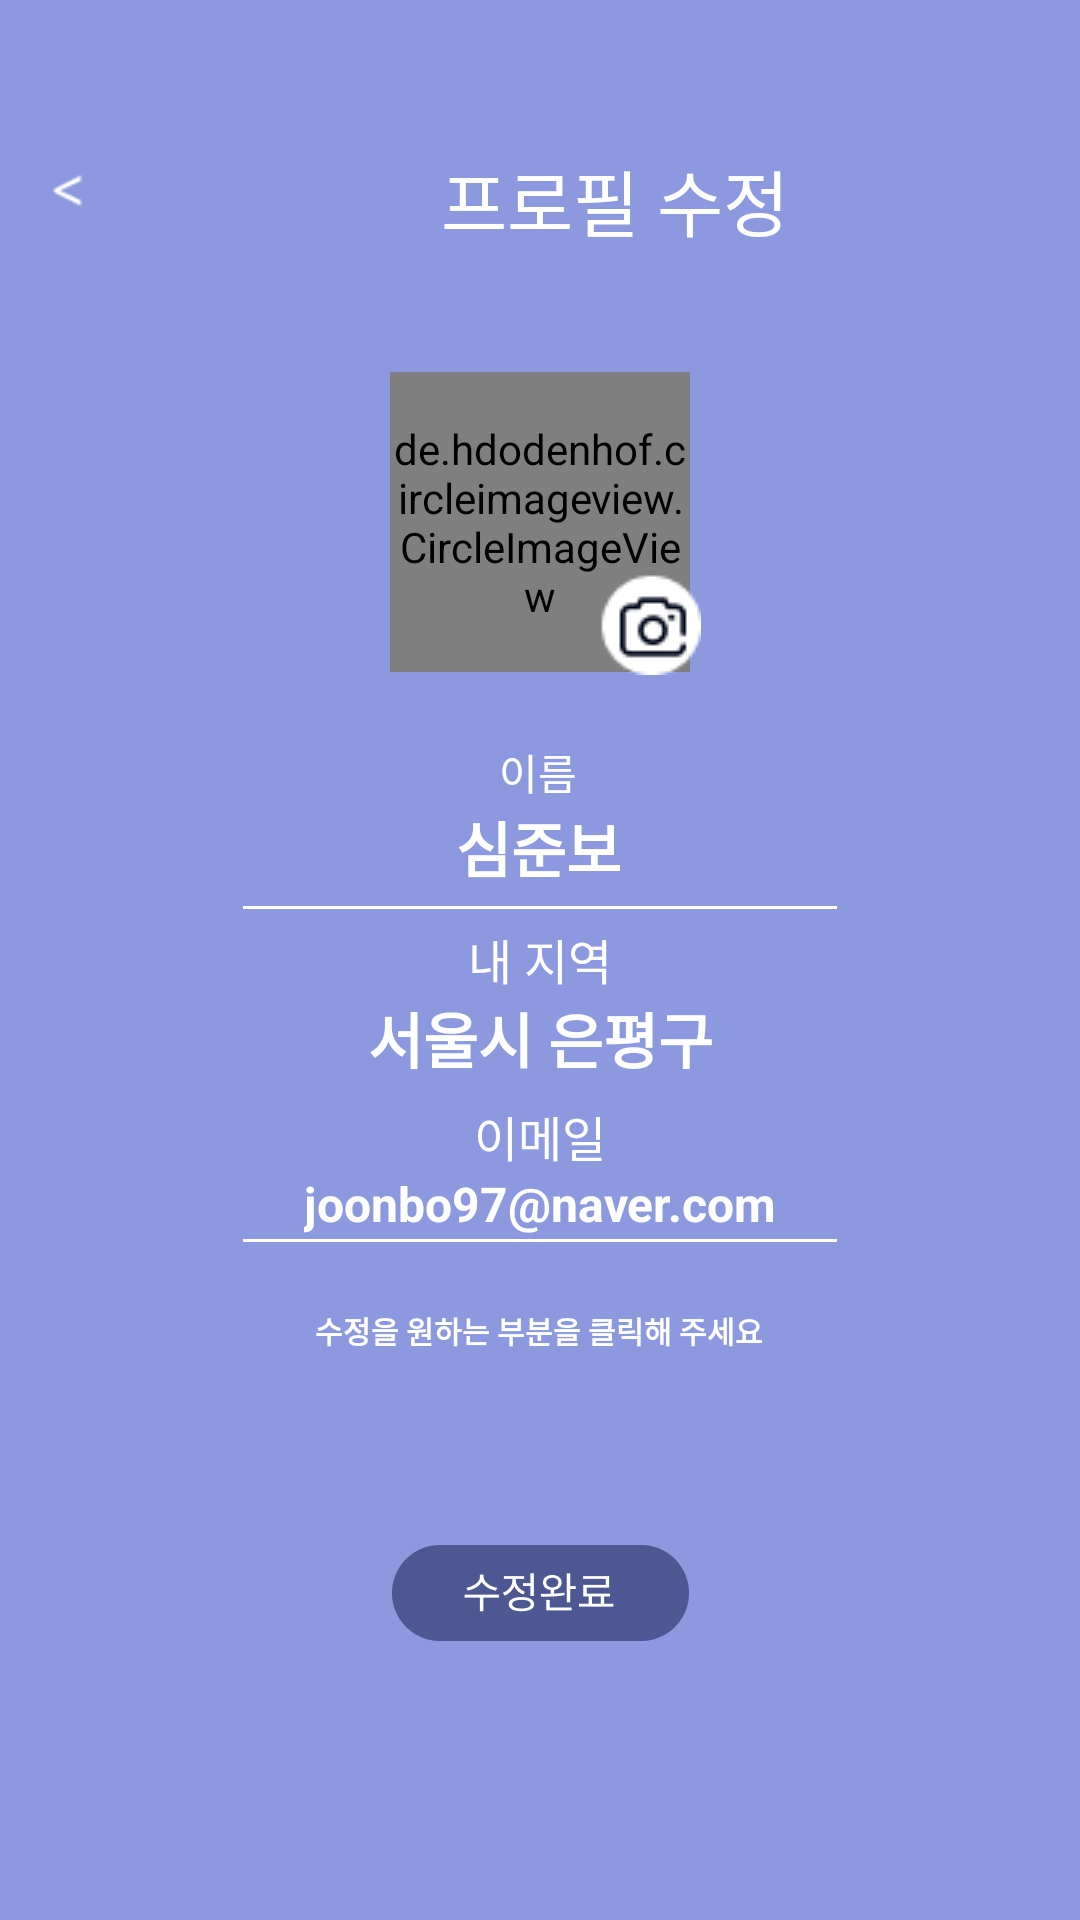

Where to tap for icons on this 1080 × 1920 app screen, as (x=x, y=y):
back: (x=67, y=190)
